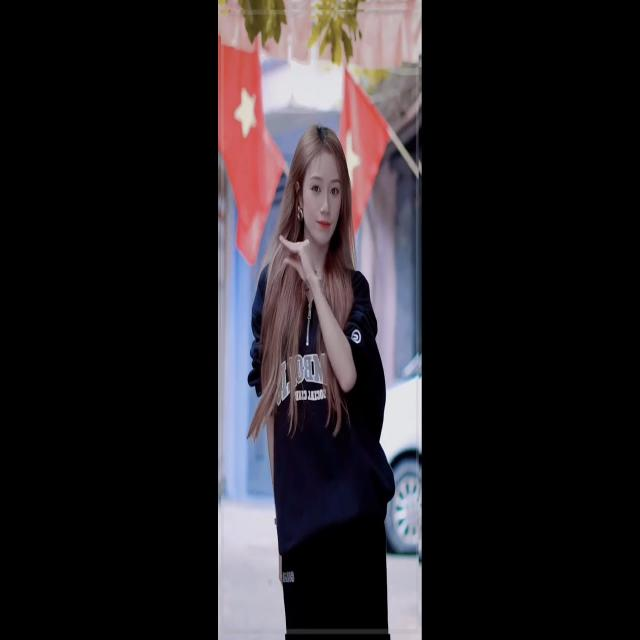clothes: (250, 238, 394, 640)
